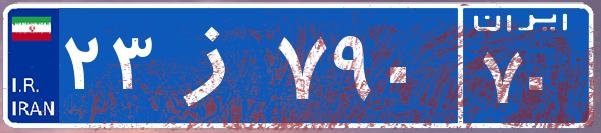0: (385, 28, 445, 110), (525, 38, 570, 115)
2: (57, 26, 110, 107)
3: (110, 28, 158, 105)
7: (273, 28, 330, 110), (475, 38, 525, 113)
9: (330, 28, 385, 110)
ز: (158, 15, 273, 115)
